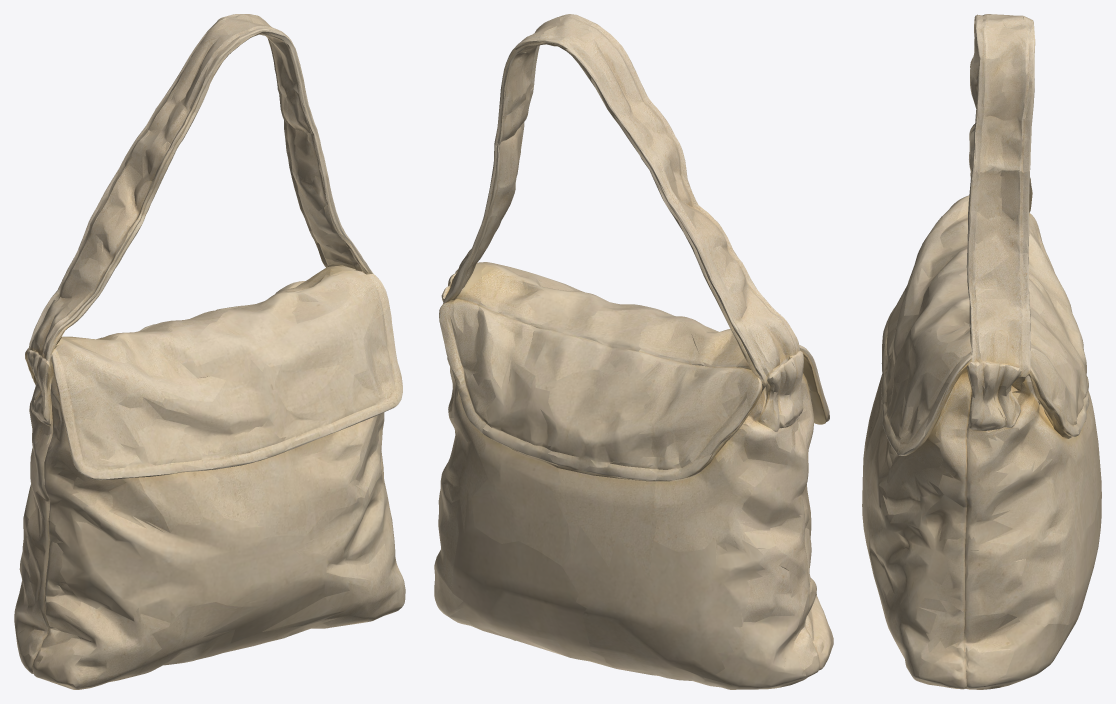
Rendered from w51phobag.glb.
The picture shows the model from 3 angles, left to right: view 1: azimuth 30°, elevation 25°; view 2: azimuth 150°, elevation 25°; view 3: azimuth 270°, elevation 25°; orthographic projection. The views are drawn at different scales.
Visible parts, largest first — view 1: output_unwrapped; view 2: output_unwrapped; view 3: output_unwrapped.
Part boxes in pixels (x1,y1,x2,y2): output_unwrapped: [14, 14, 405, 689]; output_unwrapped: [434, 14, 833, 689]; output_unwrapped: [862, 14, 1101, 689].
Bounding box in the file's own units: 0.32 × 0.4966 × 0.1771.
1 material, 1 textured.
